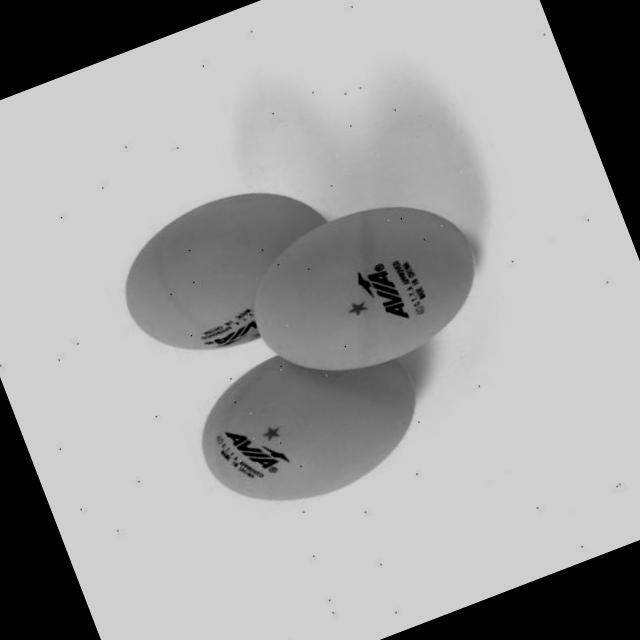ping-pong-ball: (224, 176, 501, 407), (172, 308, 448, 538), (94, 162, 363, 386)
